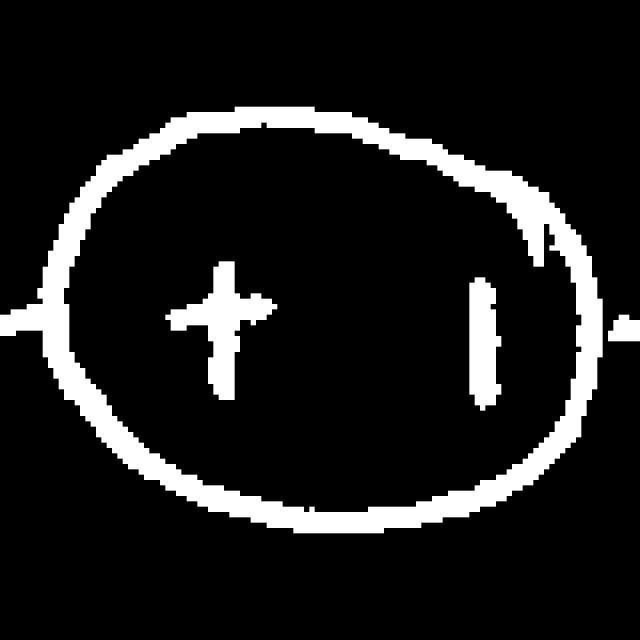voltage_source: (39, 61, 608, 544)
